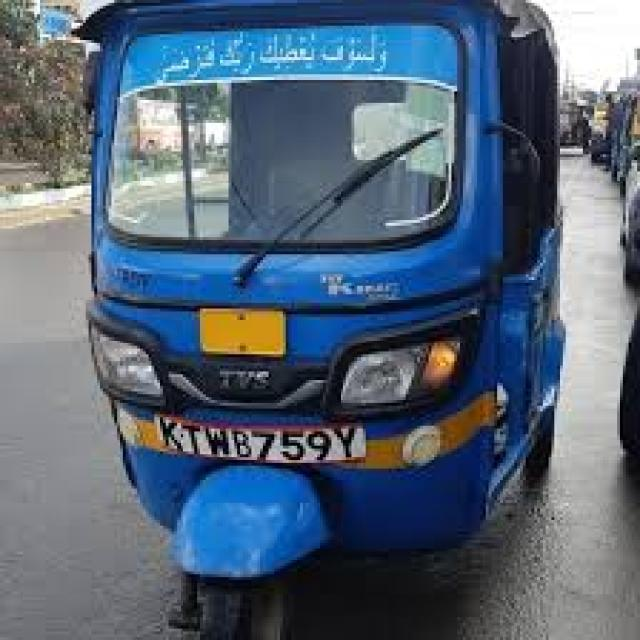tuktuk: (58, 1, 588, 640)
